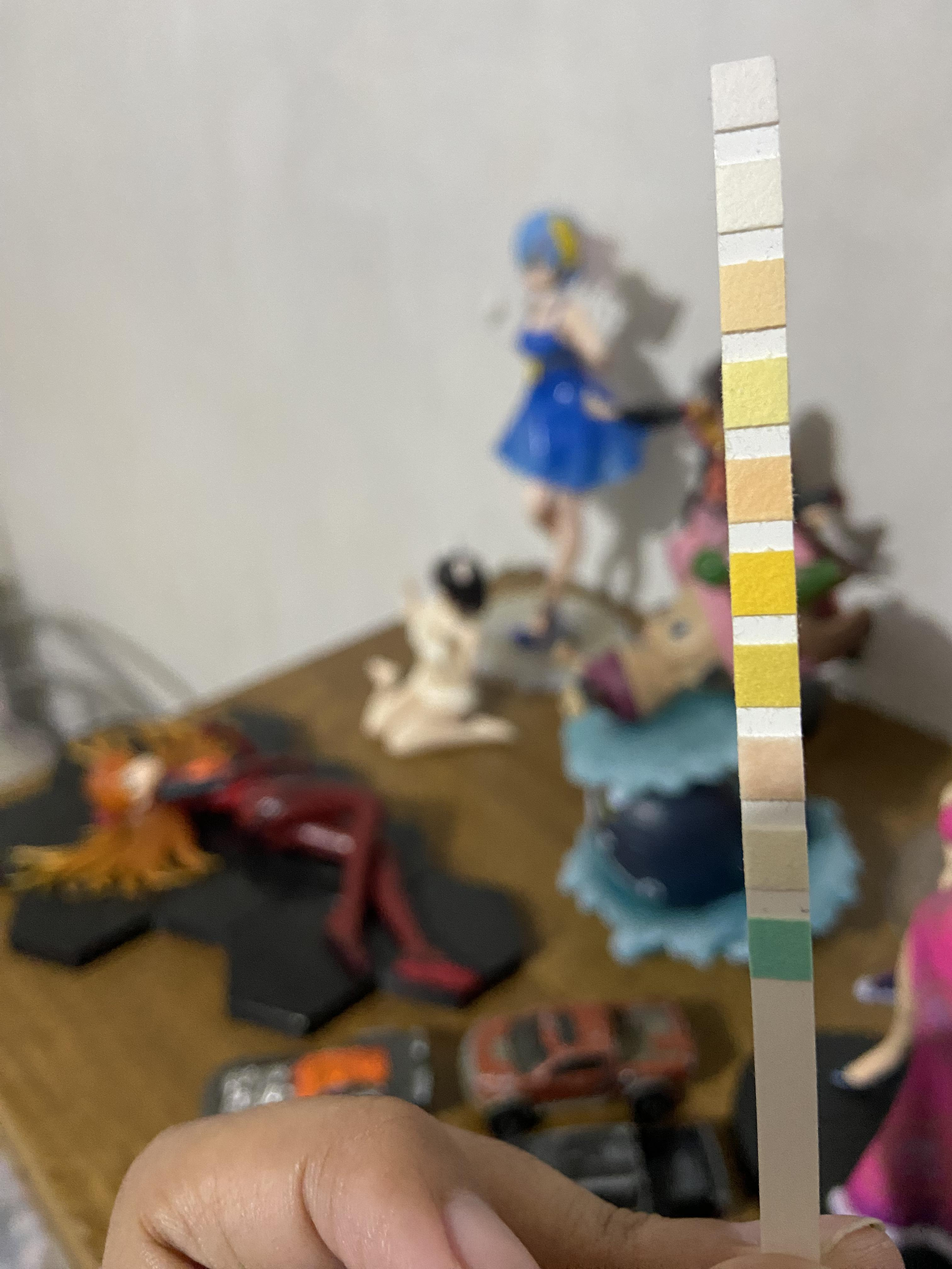Bilirubin: (750, 836, 804, 887)
Blood: (737, 560, 792, 611)
Glucose: (755, 925, 807, 975)
Ketone: (745, 743, 800, 799)
Leukocytes: (716, 69, 770, 120)
Nitrite: (722, 168, 774, 221)
Protein: (728, 367, 783, 420)
SpGravity: (739, 651, 794, 702)
Urobilinogen: (725, 270, 781, 322)
pH: (734, 462, 788, 516)
strip: (711, 57, 820, 1252)
